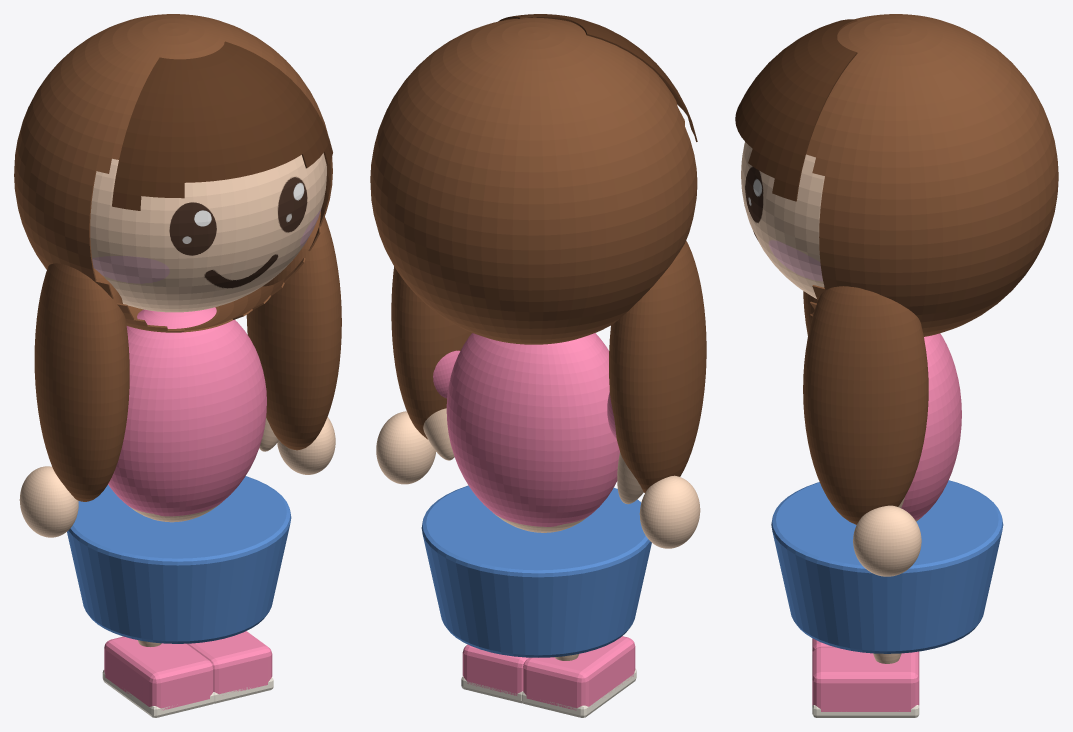
The model's file is lily.glb.
3 renders of one model, left to right at view 1: azimuth 30°, elevation 25°; view 2: azimuth 150°, elevation 25°; view 3: azimuth 270°, elevation 25°, orthographic. The views are drawn at different scales.
Visible parts, largest first — view 1: HairCap, Skirt, Head, Shirt, HairBangs, HairLockR, HairLockL, ShoeR, ShoeL, HandR, HandL, SoleR; view 2: HairCap, Skirt, Shirt, HairLockR, HairLockL, ShoeR, HandR, HandL, ShoeL, HairBangs, SoleR, ArmL (+3 smaller); view 3: HairCap, Skirt, HairLockL, HairBangs, Head, ShoeL, Shirt, HandL, SoleL.
Boxes of the visible parts, x1,y1,x2,y2 form: HairCap: (14, 14, 332, 332); Skirt: (67, 476, 291, 643); Head: (90, 153, 326, 312); Shirt: (108, 307, 266, 516); HairBangs: (112, 41, 332, 210); HairLockR: (34, 263, 129, 501); HairLockL: (246, 211, 341, 450); ShoeR: (104, 636, 213, 710); ShoeL: (186, 631, 272, 694); HandR: (19, 466, 78, 537); HandL: (277, 417, 335, 474); SoleR: (102, 670, 214, 717); HairCap: (370, 17, 697, 344); Skirt: (421, 485, 651, 657); Shirt: (446, 333, 619, 526); HairLockR: (609, 241, 706, 492); HairLockL: (391, 266, 471, 439); ShoeR: (523, 636, 635, 710); HandR: (639, 475, 700, 548); HandL: (376, 411, 435, 484); ShoeL: (462, 644, 528, 695); HairBangs: (498, 14, 697, 141); SoleR: (522, 668, 636, 717); ArmL: (423, 408, 454, 460); HairCap: (806, 14, 1058, 336); Skirt: (771, 480, 1003, 653); HairLockL: (803, 286, 928, 524); HairBangs: (735, 19, 857, 201); Head: (741, 142, 824, 298); ShoeL: (812, 646, 919, 711); Shirt: (901, 333, 961, 520); HandL: (853, 505, 921, 576); SoleL: (812, 705, 919, 717).
Size of the model in its own units: 0.504 by 1.02 by 0.4529.
Materials: 7 (1 with a texture image).
